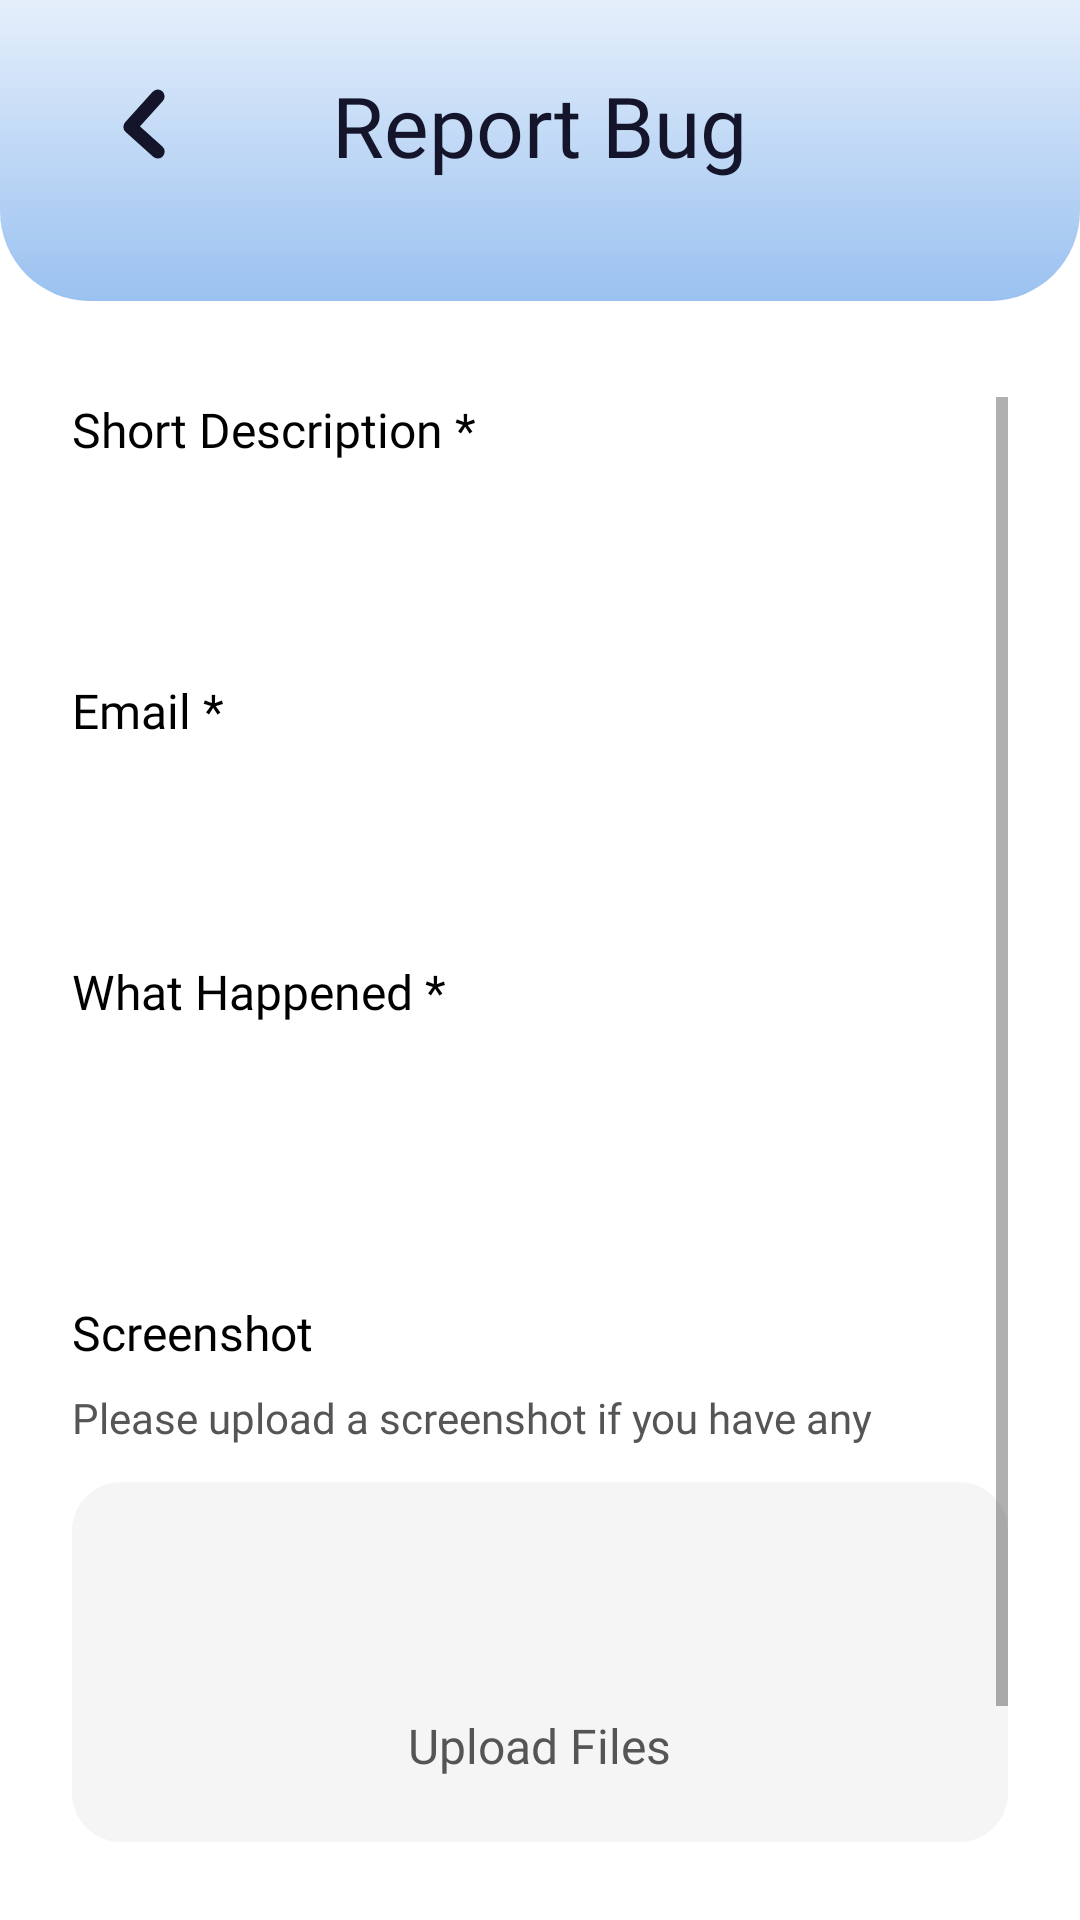

Screen size 1080px x 1920px. Icon name, then its center in pixels as point (x, y):
Back: point (144, 124)
